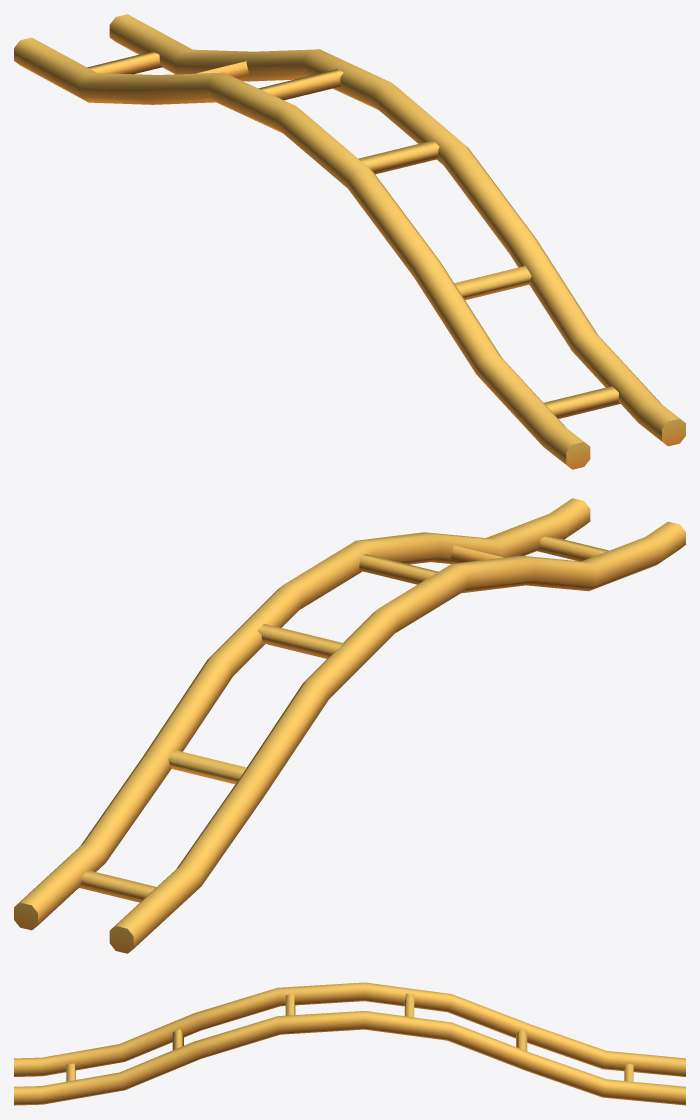
Rendered from coaster-mouse-straight-bump-up.glb.
3 renders of one model, top to bottom at view 1: azimuth 30°, elevation 25°; view 2: azimuth 150°, elevation 25°; view 3: azimuth 270°, elevation 25°, orthographic. The views are drawn at different scales.
Visible parts, largest first — view 1: coaster-mouse-straight-bump-up; view 2: coaster-mouse-straight-bump-up; view 3: coaster-mouse-straight-bump-up.
Boxes of the visible parts, x1,y1,x2,y2 form: coaster-mouse-straight-bump-up: [14, 14, 685, 469]; coaster-mouse-straight-bump-up: [14, 498, 685, 953]; coaster-mouse-straight-bump-up: [14, 982, 685, 1105].
Bounding box in the file's own units: 0.5 × 0.5987 × 4.
1 material, 1 textured.
